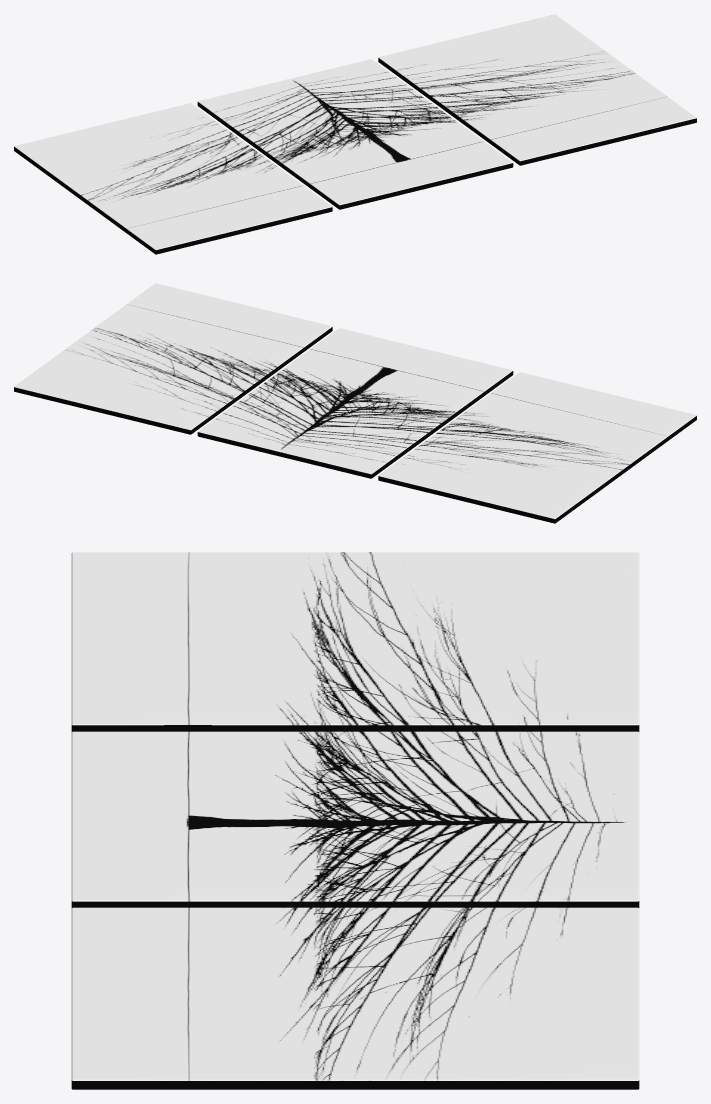
File: modern-picture.glb
The picture shows the model from 3 angles, top to bottom: view 1: azimuth 30°, elevation 25°; view 2: azimuth 150°, elevation 25°; view 3: azimuth 270°, elevation 25°; orthographic projection. The views are drawn at different scales.
Parts seen in each view (by area): view 1: Painting; view 2: Painting; view 3: Painting.
Part boxes in pixels (x1,y1,x2,y2): Painting: (14, 14, 696, 254); Painting: (14, 283, 696, 523); Painting: (71, 552, 639, 1089).
Bounding box in the file's own units: 1.65 × 0.0147 × 0.75.
1 material, 1 textured.
